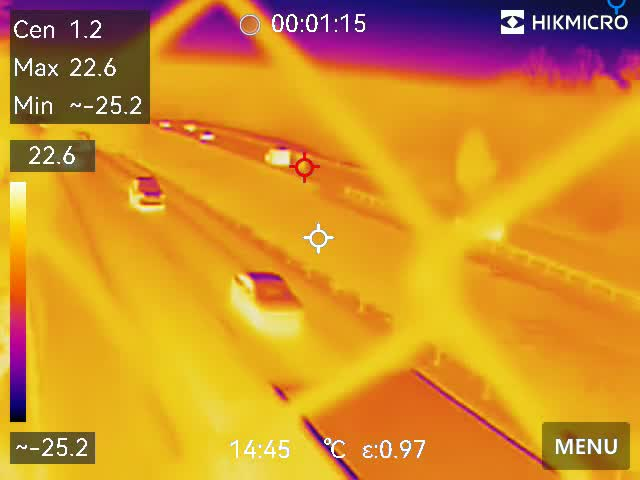largeCar: (125, 168, 168, 210)
smallCar: (230, 267, 308, 337)
vehicle: (197, 128, 216, 143), (153, 119, 175, 131), (184, 119, 200, 132)
